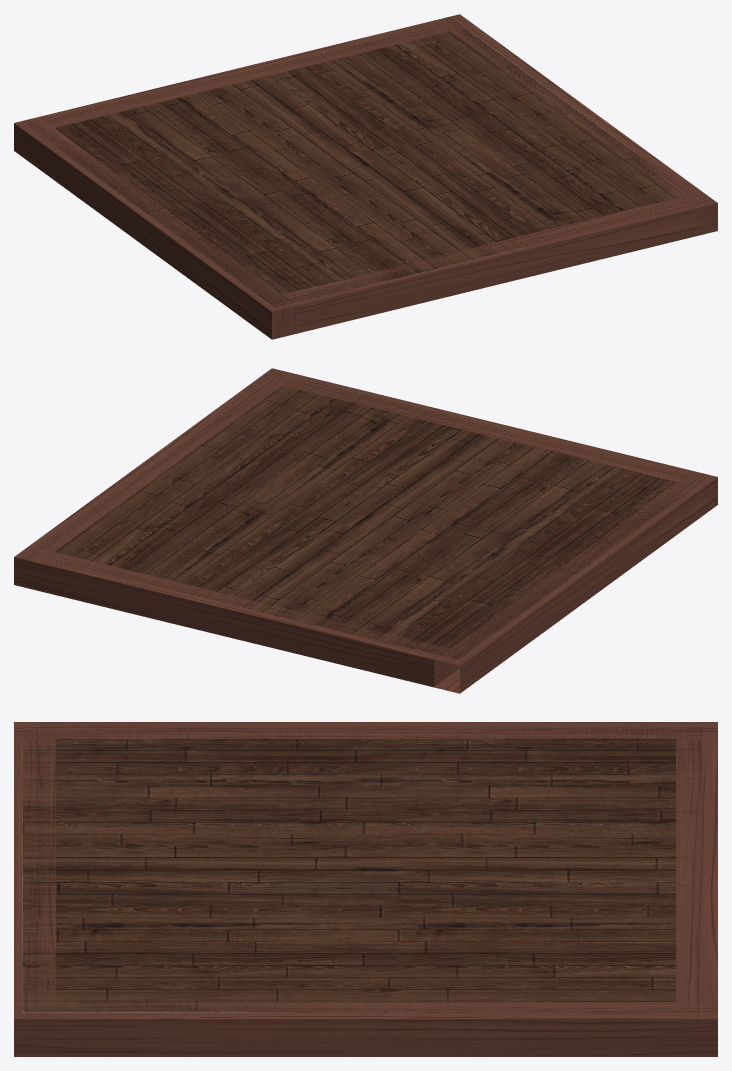
The model's file is ceiling.fbx.
The picture shows the model from 3 angles, top to bottom: view 1: azimuth 30°, elevation 25°; view 2: azimuth 150°, elevation 25°; view 3: azimuth 270°, elevation 25°; orthographic projection. The views are drawn at different scales.
Parts seen in each view (by area): view 1: SM_ceiling; view 2: SM_ceiling; view 3: SM_ceiling.
Boxes of the visible parts, x1,y1,x2,y2 form: SM_ceiling: [14, 14, 717, 339]; SM_ceiling: [14, 368, 717, 693]; SM_ceiling: [14, 722, 717, 1056].
Size of the model in its own units: 29925 by 1787 by 30000.
